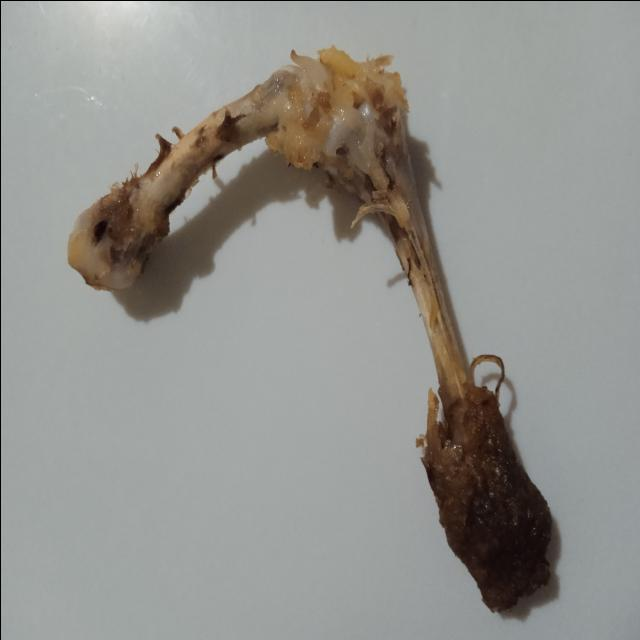bone: (59, 39, 561, 630)
